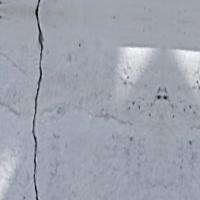crack: (24, 0, 67, 199)
